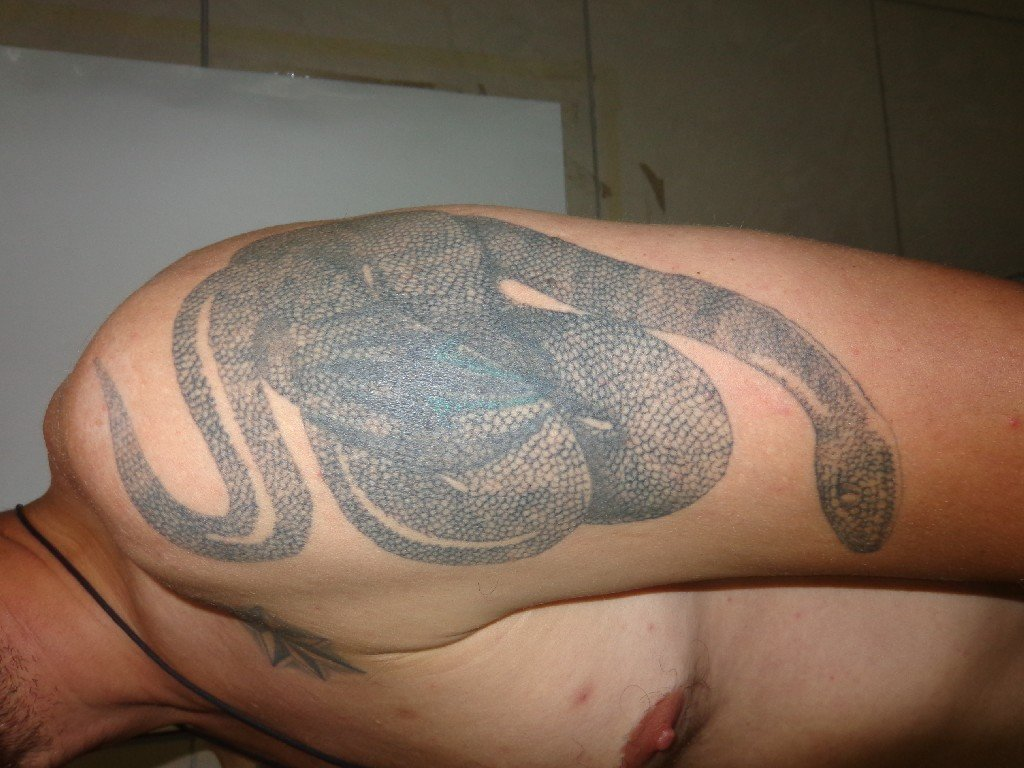tatu7_zmeya: (89, 206, 905, 589)
